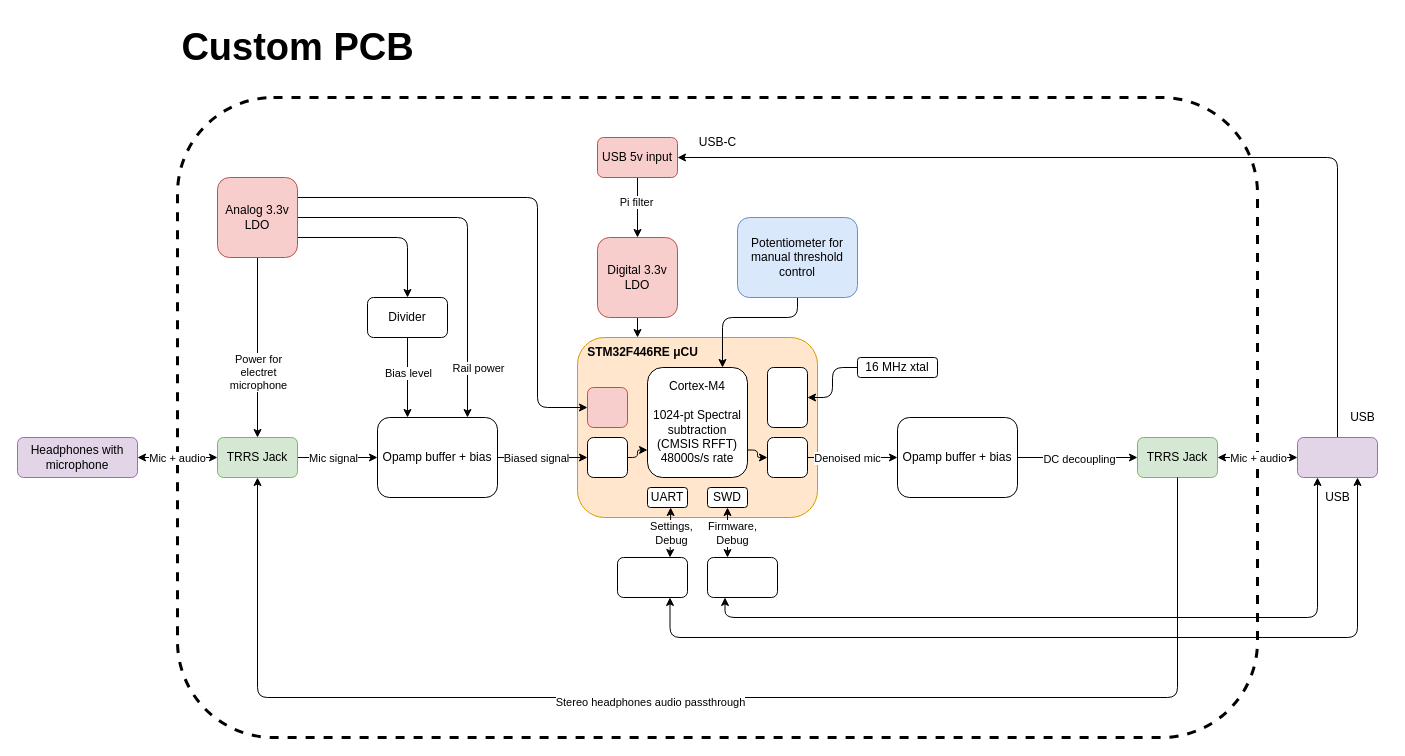
This 1405x756 diagram has some shape labels left out. The box of each missing label's shape, as (x1, y1, x2, y2) in pixels:
100 MHz clock: (766, 366, 808, 428)
ADC: (586, 436, 628, 478)
Analog VREF: (586, 386, 628, 428)
DAC: (766, 436, 808, 478)
External device: (1296, 436, 1378, 478)
Programmer (ST Link): (706, 556, 778, 598)
USB-UART adapter: (616, 556, 688, 598)
